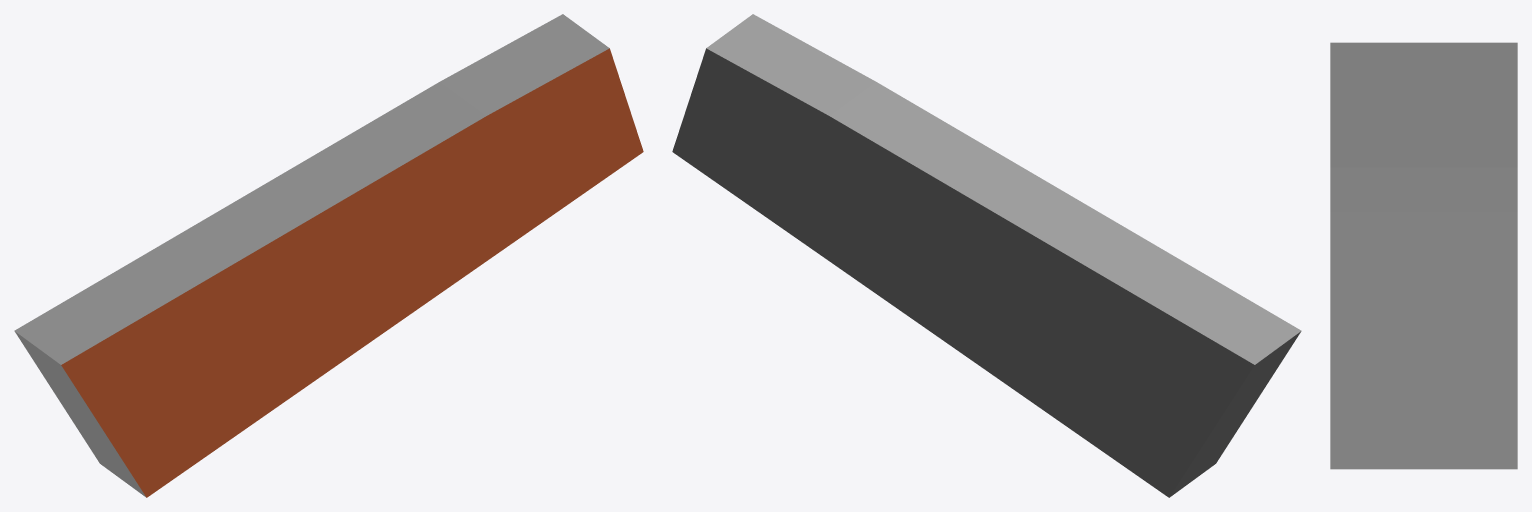
File: construction_3796_assumed_A_Casa_h6m.obj
3 views of the same model, side by side, from view 1: azimuth 30°, elevation 25°; view 2: azimuth 150°, elevation 25°; view 3: azimuth 270°, elevation 25° (orthographic). The views are drawn at different scales.
Visible parts, largest first — view 1: construction_3796_assumed_A_Casa; view 2: construction_3796_assumed_A_Casa; view 3: construction_3796_assumed_A_Casa.
Part boxes in pixels (<box>): construction_3796_assumed_A_Casa: <box>14,14,643,497</box>; construction_3796_assumed_A_Casa: <box>672,14,1301,497</box>; construction_3796_assumed_A_Casa: <box>1330,42,1517,469</box>.
Bounding box in the file's own units: 43.06 × 23.78 × 6.
